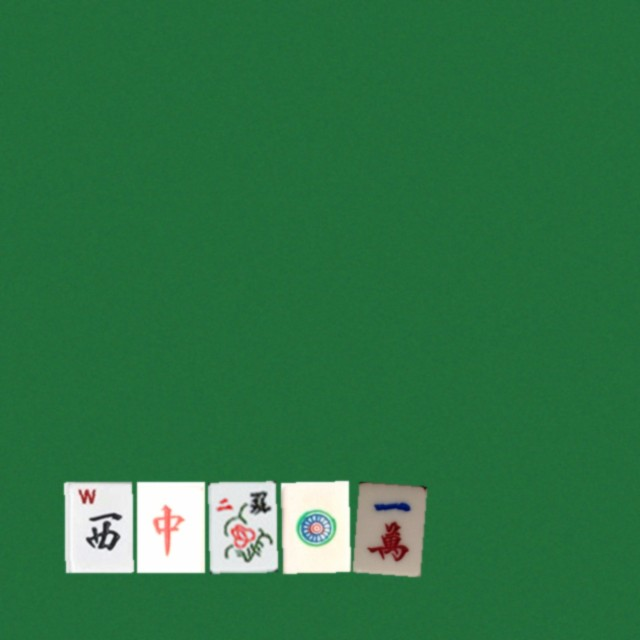tile: (64, 481, 132, 572), (136, 481, 204, 572), (208, 481, 276, 572), (280, 481, 348, 572), (352, 481, 420, 572)
